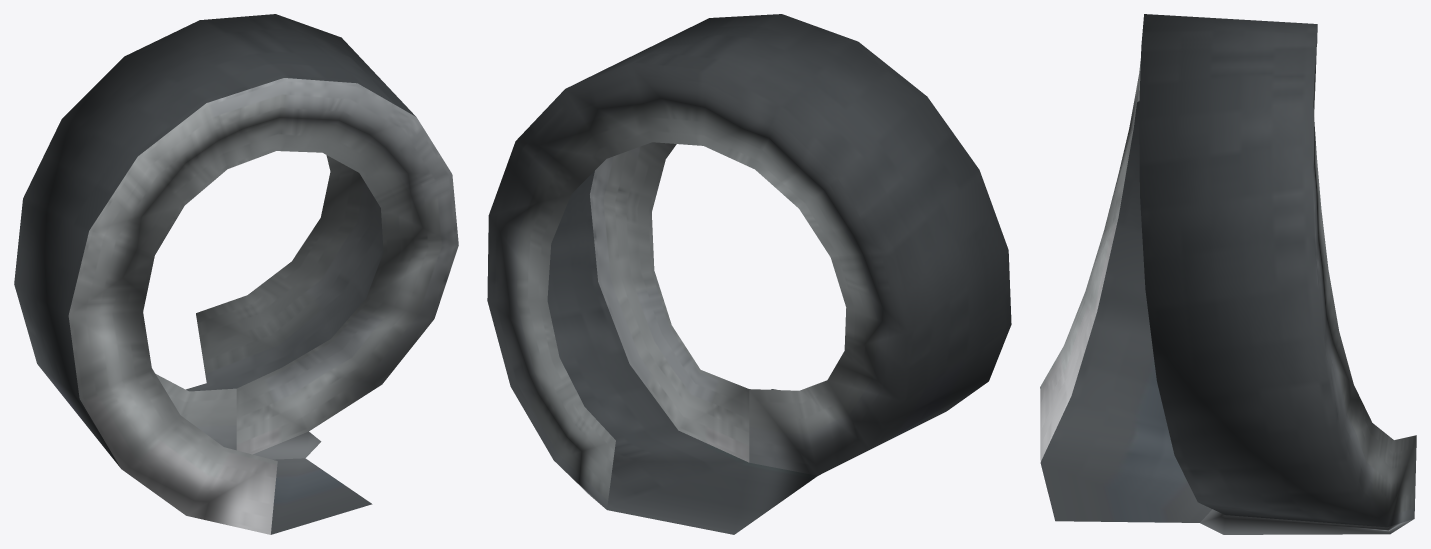
The model's file is loop.obj.
3 renders of one model, left to right at view 1: azimuth 30°, elevation 25°; view 2: azimuth 150°, elevation 25°; view 3: azimuth 270°, elevation 25°, orthographic. The views are drawn at different scales.
Visible parts, largest first — view 1: Cube; view 2: Cube; view 3: Cube.
Part boxes in pixels (<box>): Cube: <box>14,14,458,534</box>; Cube: <box>487,14,1011,534</box>; Cube: <box>1040,14,1416,534</box>.
Bounding box in the file's own units: 6.2 × 5.77 × 4.36.
